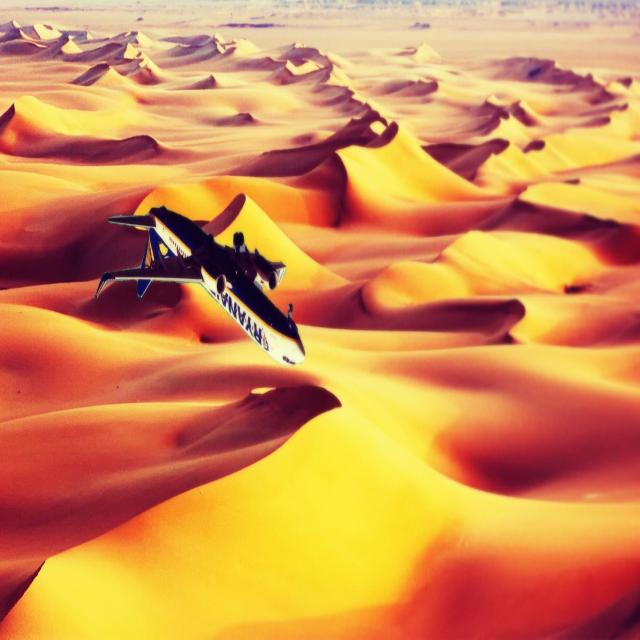airplane: (94, 191, 306, 368)
